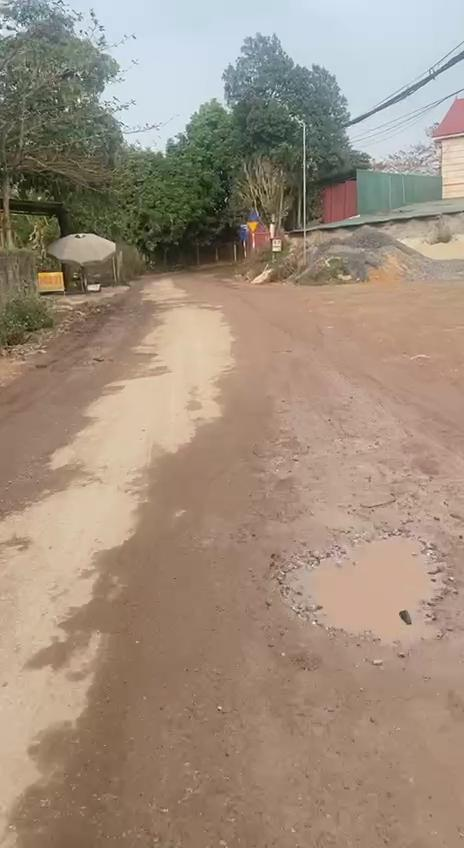pothole: (278, 525, 456, 657)
